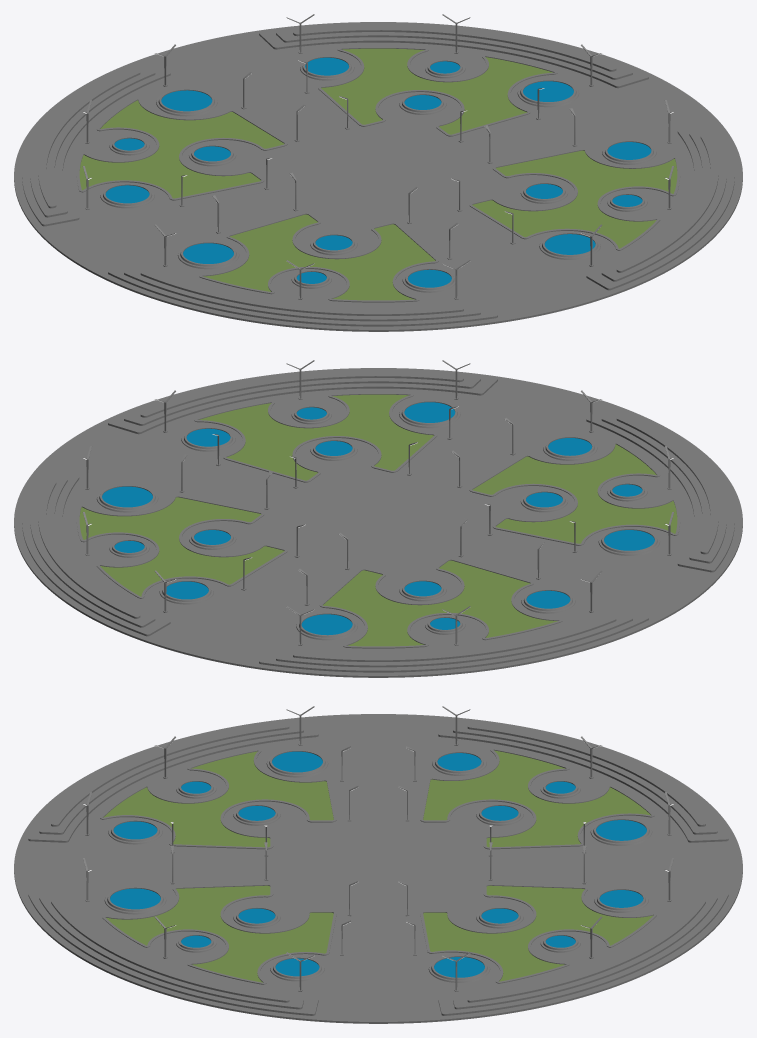
3 views of the same model, one above another, from view 1: azimuth 30°, elevation 25°; view 2: azimuth 150°, elevation 25°; view 3: azimuth 270°, elevation 25° (orthographic).
Visible parts, largest first — view 1: geo1; view 2: geo1; view 3: geo1.
Boxes of the visible parts, box(x1,y1,x2,y2) form: geo1: box(14, 14, 742, 331); geo1: box(14, 360, 742, 677); geo1: box(14, 706, 742, 1023).
Size of the model in its own units: 1.8 by 0.1061 by 1.8.
